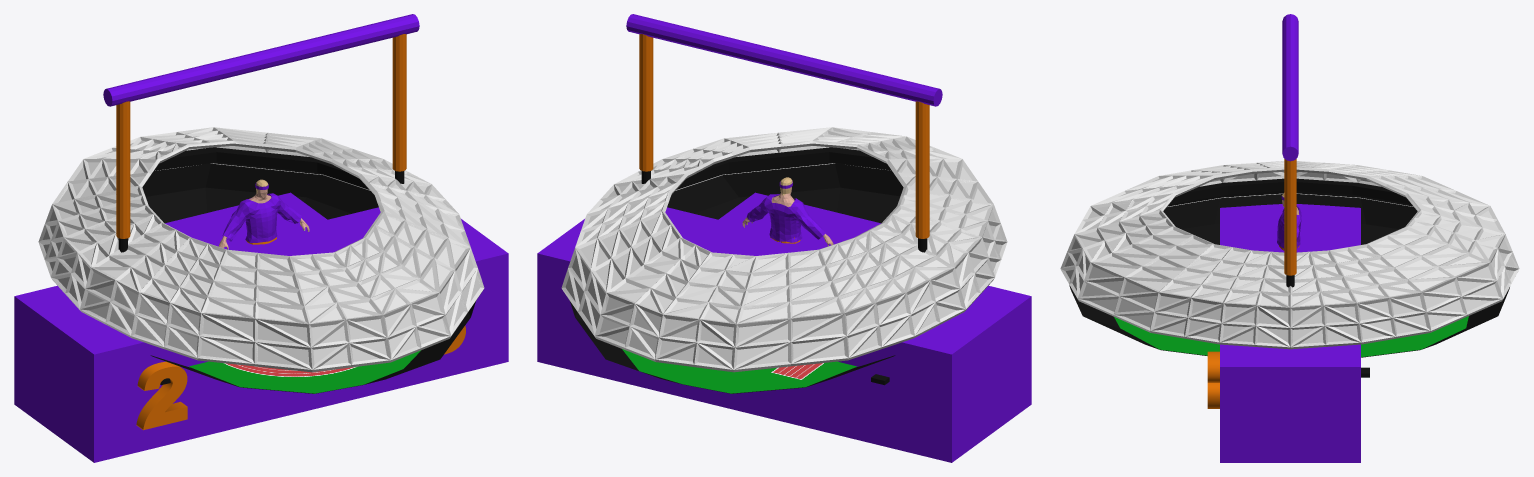
Rendered from stadium.fbx.
3 renders of one model, left to right at view 1: azimuth 30°, elevation 25°; view 2: azimuth 150°, elevation 25°; view 3: azimuth 270°, elevation 25°, orthographic. The views are drawn at different scales.
Visible parts, largest first — view 1: dak.001, Cube.002, dak, stadium, podium, Cube.001, Cylinder, floor, Cube.005, Cylinder.002, Cylinder.001; view 2: dak.001, Cube.002, dak, stadium, podium, Cube.001, Cylinder, floor, Cylinder.002, Cylinder.001, Cube.005; view 3: dak.001, Cube.001, dak, stadium, podium, floor, Cylinder, Cylinder.001, Cube.002.
Boxes of the visible parts, x1=… form: dak.001: x1=38, y1=127, x2=484, y2=372; Cube.002: x1=14, y1=285, x2=232, y2=462; dak: x1=38, y1=127, x2=484, y2=372; stadium: x1=142, y1=147, x2=475, y2=393; podium: x1=165, y1=192, x2=370, y2=428; Cube.001: x1=328, y1=207, x2=508, y2=395; Cylinder: x1=103, y1=14, x2=419, y2=106; floor: x1=189, y1=350, x2=420, y2=393; Cube.005: x1=222, y1=193, x2=301, y2=242; Cylinder.002: x1=116, y1=101, x2=130, y2=252; Cylinder.001: x1=392, y1=34, x2=406, y2=183; dak.001: x1=562, y1=127, x2=1007, y2=372; Cube.002: x1=813, y1=285, x2=1031, y2=462; dak: x1=561, y1=127, x2=1007, y2=369; stadium: x1=570, y1=147, x2=903, y2=393; podium: x1=675, y1=192, x2=880, y2=428; Cube.001: x1=537, y1=207, x2=717, y2=395; Cylinder: x1=626, y1=14, x2=942, y2=106; floor: x1=622, y1=349, x2=856, y2=393; Cylinder.002: x1=915, y1=101, x2=929, y2=252; Cylinder.001: x1=639, y1=34, x2=653, y2=183; Cube.005: x1=747, y1=194, x2=825, y2=242; dak.001: x1=1061, y1=161, x2=1519, y2=349; Cube.001: x1=1207, y1=344, x2=1360, y2=462; dak: x1=1060, y1=161, x2=1518, y2=349; stadium: x1=1069, y1=178, x2=1509, y2=357; podium: x1=1220, y1=215, x2=1360, y2=252; floor: x1=1114, y1=316, x2=1468, y2=357; Cylinder: x1=1282, y1=14, x2=1298, y2=161; Cylinder.001: x1=1284, y1=159, x2=1296, y2=287; Cube.002: x1=1220, y1=204, x2=1360, y2=215.
Size of the model in its own units: 600 by 458 by 650.
Materials: 8 (1 with a texture image).
